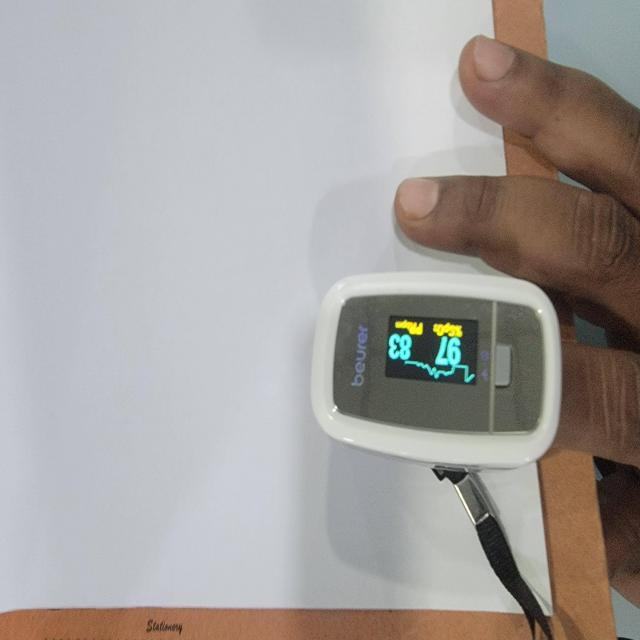spo2: (309, 271, 564, 472)
